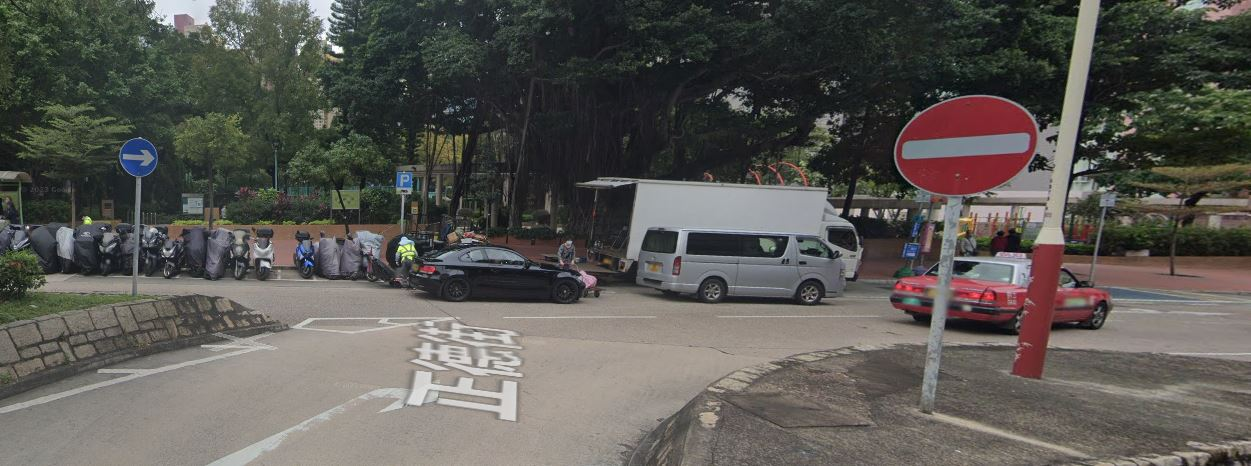No Enter: (893, 90, 1040, 196)
Turn Right: (123, 137, 157, 175)
